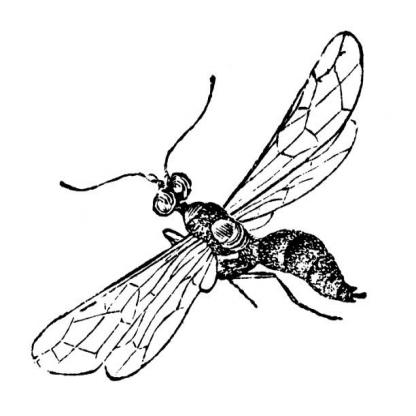sawfly: (30, 29, 371, 381)
